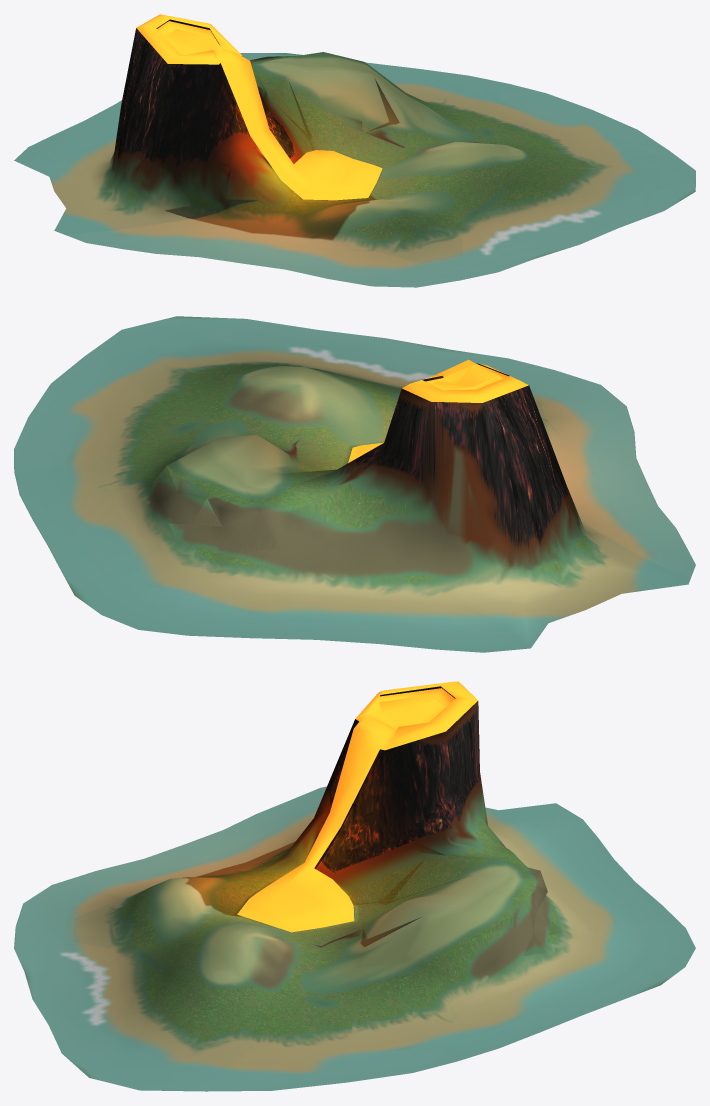
File: test-island.glb
3 renders of one model, top to bottom at view 1: azimuth 30°, elevation 25°; view 2: azimuth 150°, elevation 25°; view 3: azimuth 270°, elevation 25°, orthographic. The views are drawn at different scales.
Parts seen in each view (by area): view 1: Icosphere; view 2: Icosphere; view 3: Icosphere.
Part boxes in pixels (x1,y1,x2,y2): Icosphere: (14,14,695,287); Icosphere: (14,316,695,652); Icosphere: (14,681,695,1091).
Bounding box in the file's own units: 2.69 × 0.6979 × 2.5.
Materials: 2 (1 with a texture image).
